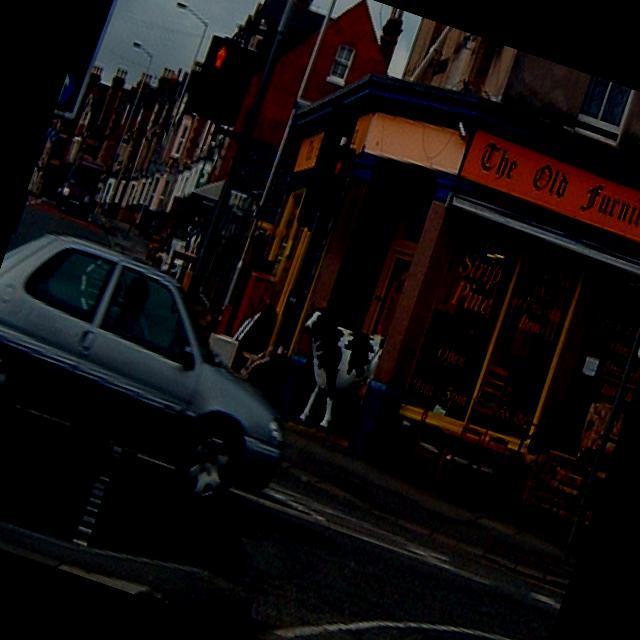Vehicle: (0, 214, 325, 524), (53, 157, 104, 220)
